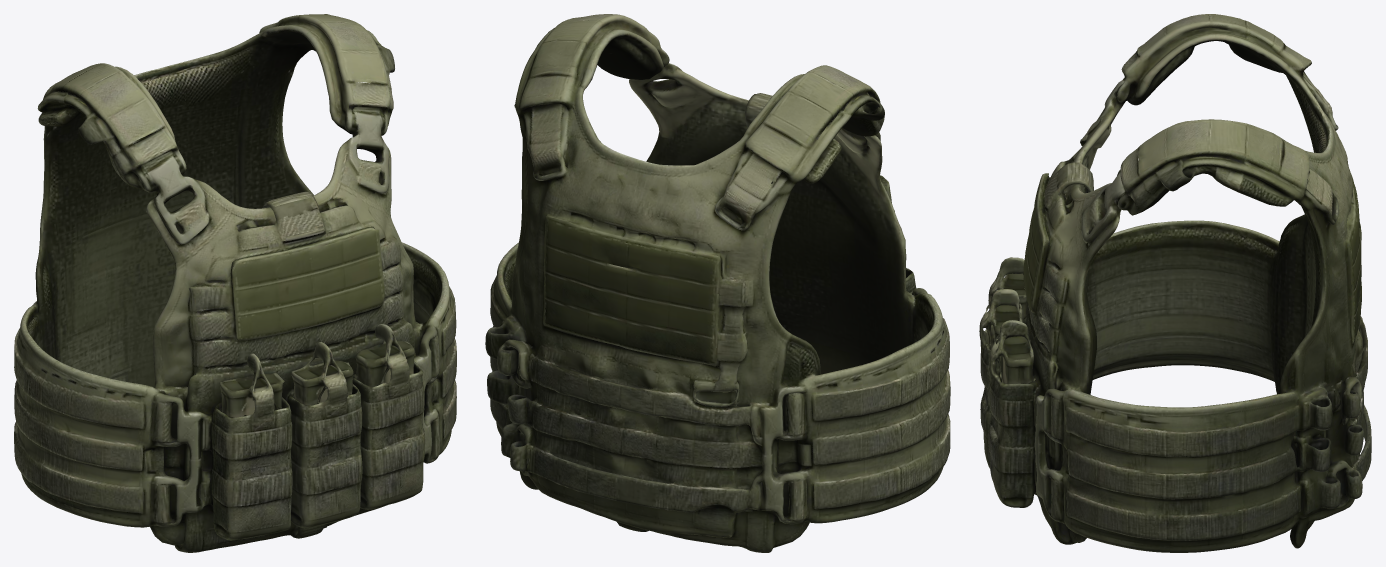
Rendered from armor.glb.
The picture shows the model from 3 angles, left to right: view 1: azimuth 30°, elevation 25°; view 2: azimuth 150°, elevation 25°; view 3: azimuth 270°, elevation 25°; orthographic projection. The views are drawn at different scales.
Parts seen in each view (by area): view 1: tripo_node_0fd2d677; view 2: tripo_node_0fd2d677; view 3: tripo_node_0fd2d677.
Boxes of the visible parts, x1,y1,x2,y2 form: tripo_node_0fd2d677: (14, 14, 456, 552); tripo_node_0fd2d677: (485, 14, 950, 552); tripo_node_0fd2d677: (979, 14, 1371, 552).
Size of the model in its own units: 97.85 by 97.83 by 82.32.
Materials: 1 (1 with a texture image).
